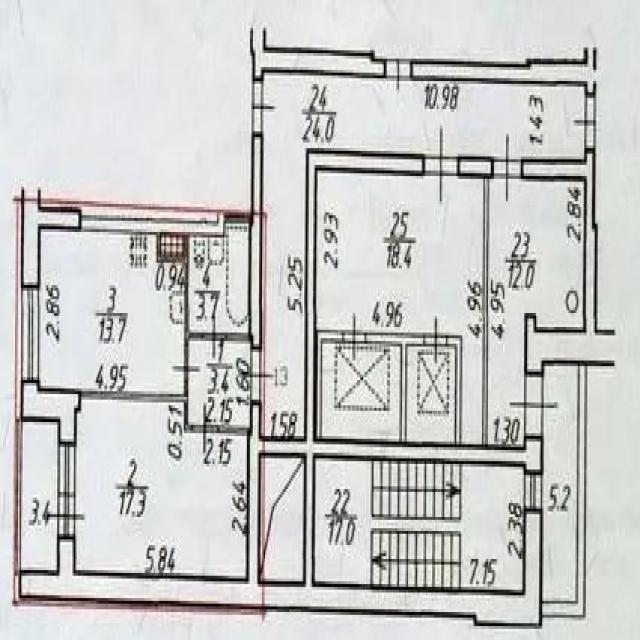Bathrooms: (190, 224, 249, 333)
Corridors: (261, 76, 585, 439), (317, 172, 483, 444), (490, 179, 583, 444), (544, 367, 576, 600), (189, 342, 249, 426), (22, 424, 56, 569)
Doors: (508, 373, 559, 438), (423, 123, 459, 205), (493, 131, 523, 205), (239, 347, 275, 403), (172, 338, 202, 395), (45, 498, 87, 537), (192, 399, 219, 456), (251, 79, 277, 135), (573, 96, 597, 150), (203, 311, 226, 361), (343, 309, 365, 361), (425, 314, 446, 367), (385, 58, 412, 93)
LBwalls: (18, 512, 544, 628), (20, 186, 82, 289), (524, 314, 617, 375), (21, 382, 82, 444), (525, 437, 544, 472)
Offices: (77, 400, 246, 576), (41, 230, 184, 391)
Stairs: (315, 458, 524, 590)
Walls: (246, 147, 525, 587), (80, 209, 225, 342), (523, 151, 597, 330), (543, 365, 587, 619), (411, 47, 597, 96), (250, 28, 385, 79), (365, 334, 425, 443), (81, 389, 193, 434), (248, 135, 264, 349), (316, 330, 343, 439), (446, 334, 463, 444), (483, 178, 489, 446), (459, 156, 494, 178), (225, 211, 252, 224), (220, 426, 249, 435), (226, 333, 251, 342)
Windows: (21, 286, 40, 381), (57, 443, 76, 498), (525, 472, 544, 513)
